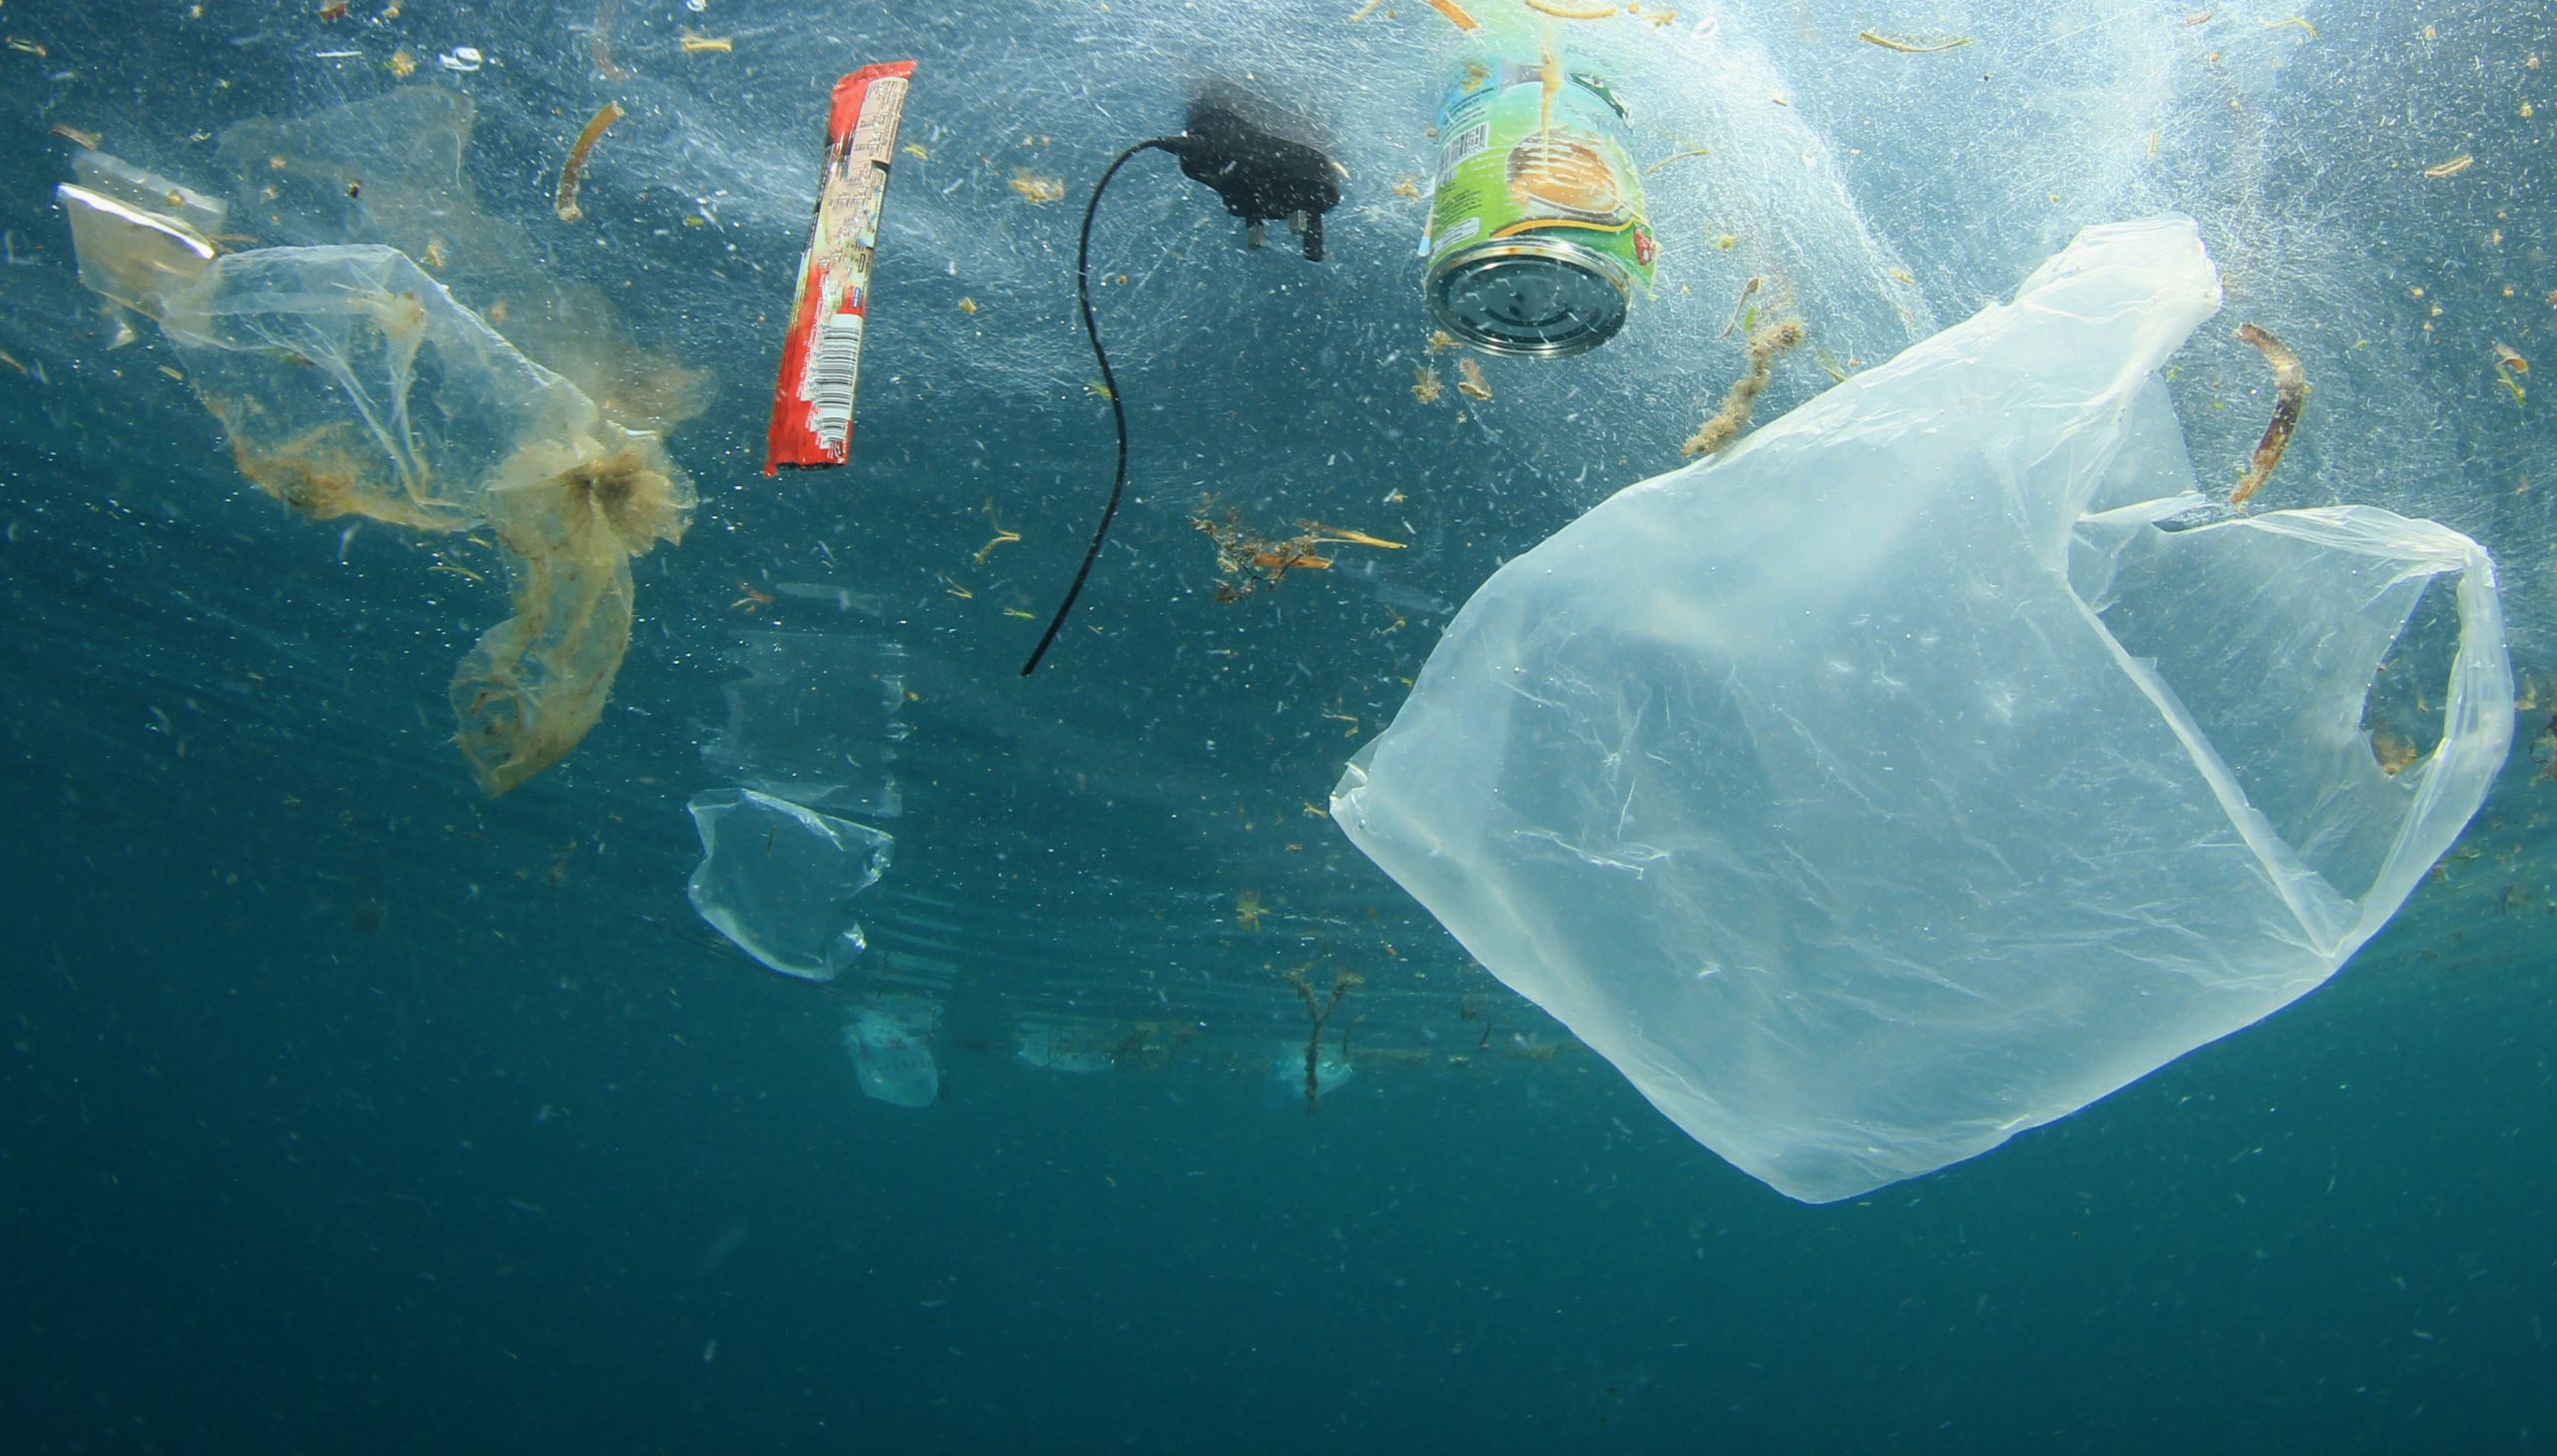Can: (1384, 72, 1674, 367)
Plastic: (1347, 130, 2553, 1184), (53, 156, 685, 797), (1013, 67, 1370, 694), (739, 42, 955, 499), (643, 759, 913, 1001)
